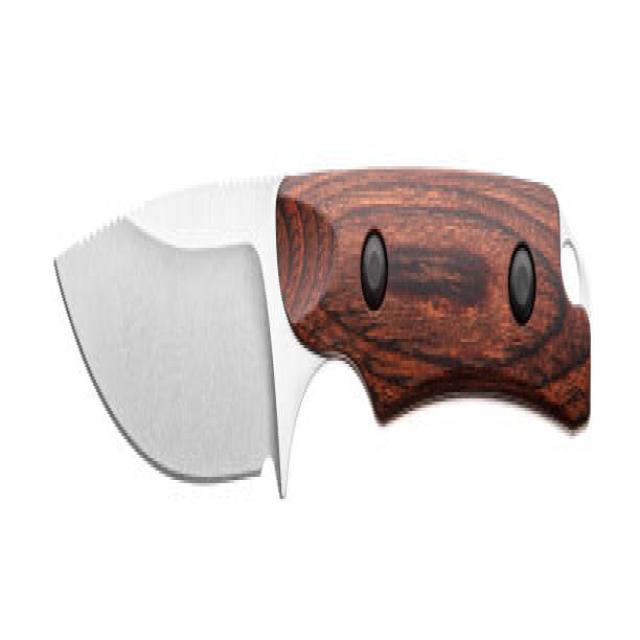knife: (47, 162, 601, 553)
